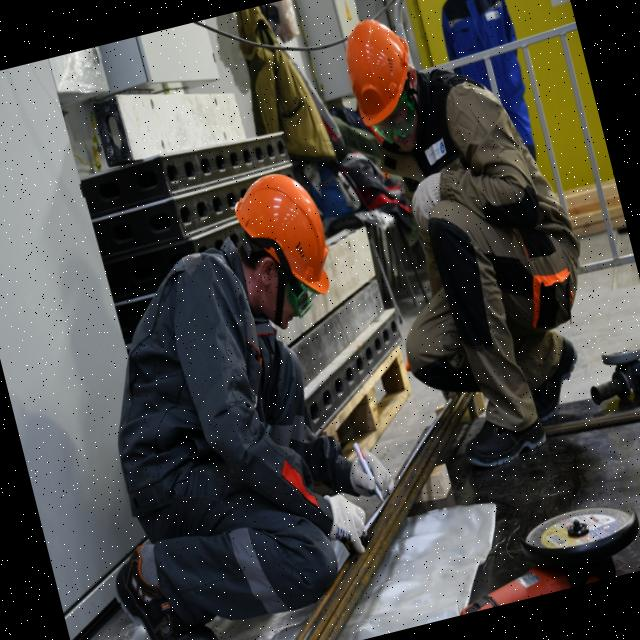Helmet: (228, 163, 343, 311), (336, 12, 428, 132)
NoJacket: (122, 251, 316, 518), (389, 99, 564, 344)
